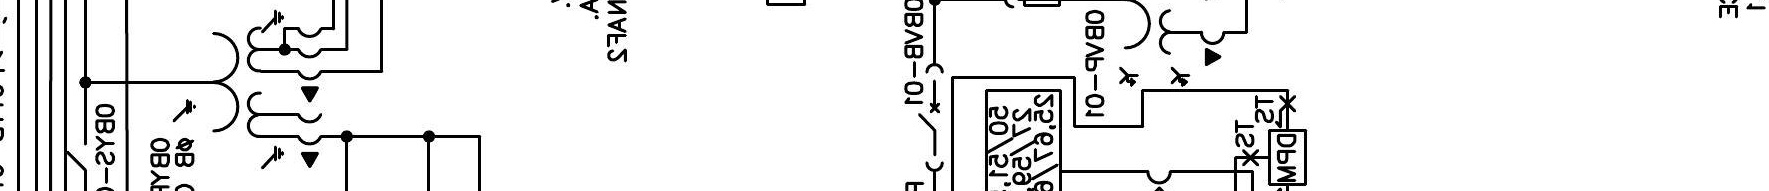115_ds: (68, 141, 88, 172)
115_vt_1p: (171, 8, 323, 170)
22_breaker: (917, 62, 944, 172)
DPM: (1267, 128, 1308, 186)
